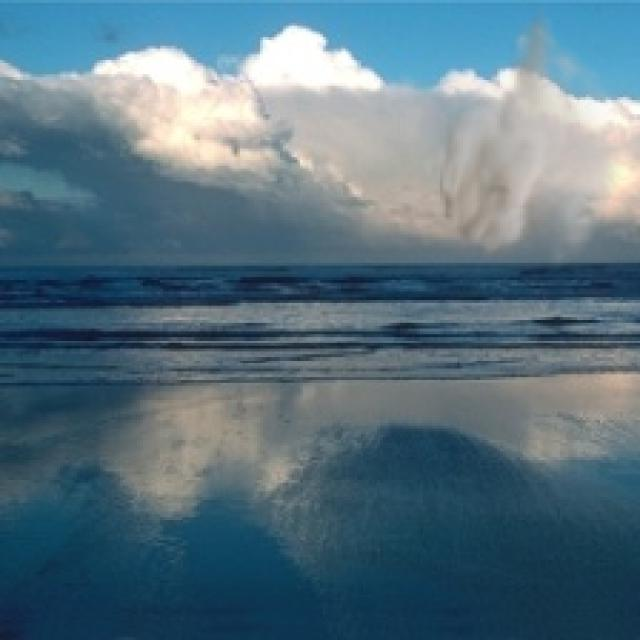smoke: (420, 3, 629, 283)
